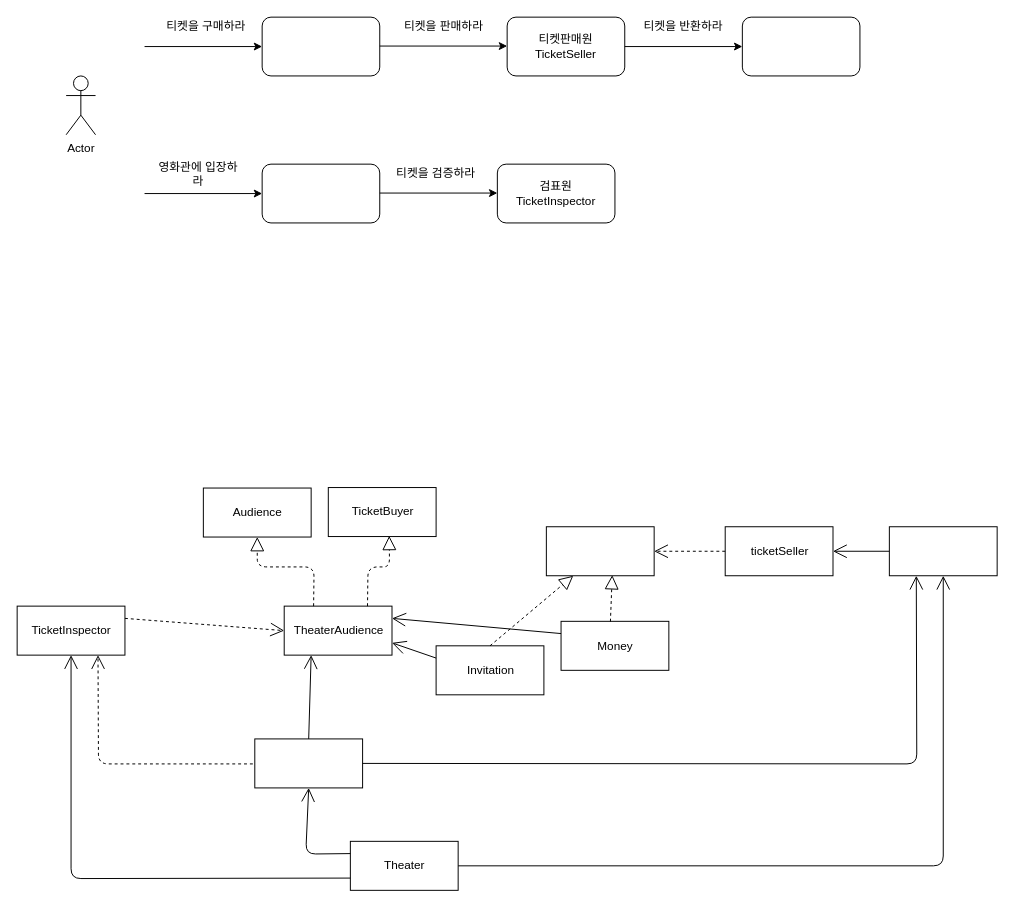
This 1014x909 diagram has some shape labels left out. Here are the shapes that lost their labels. From the top down, the centre of each, then its label:
point 320,46: 관람객 TicketBuyer
point 800,46: 티켓관리실 TicketOffice
point 320,193: 관람객 Audience
point 599,551: TicketValuable
point 942,551: TicketOffice
point 308,763: Ticket
